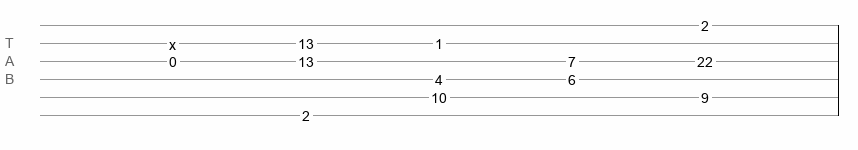0: (169, 54, 177, 64)
1: (435, 36, 443, 46)
10: (431, 90, 447, 100)
13: (298, 36, 314, 46), (298, 54, 314, 64)
2: (302, 108, 310, 118), (701, 18, 709, 28)
22: (697, 54, 713, 64)
4: (435, 72, 443, 82)
6: (568, 72, 576, 82)
7: (568, 54, 576, 64)
9: (701, 90, 709, 100)
x: (169, 37, 176, 45)
